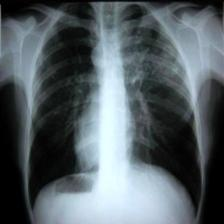tuberculosis: (21, 0, 207, 224)
